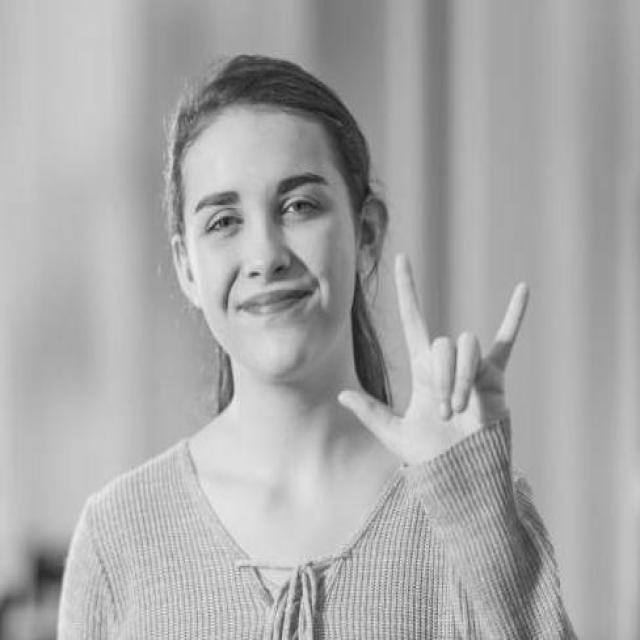i love you: (332, 246, 535, 479)
